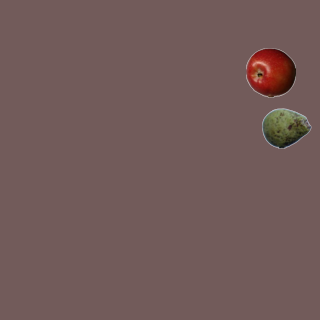Apple Braeburn: (245, 47, 295, 97)
Pear Stone: (261, 103, 311, 153)
